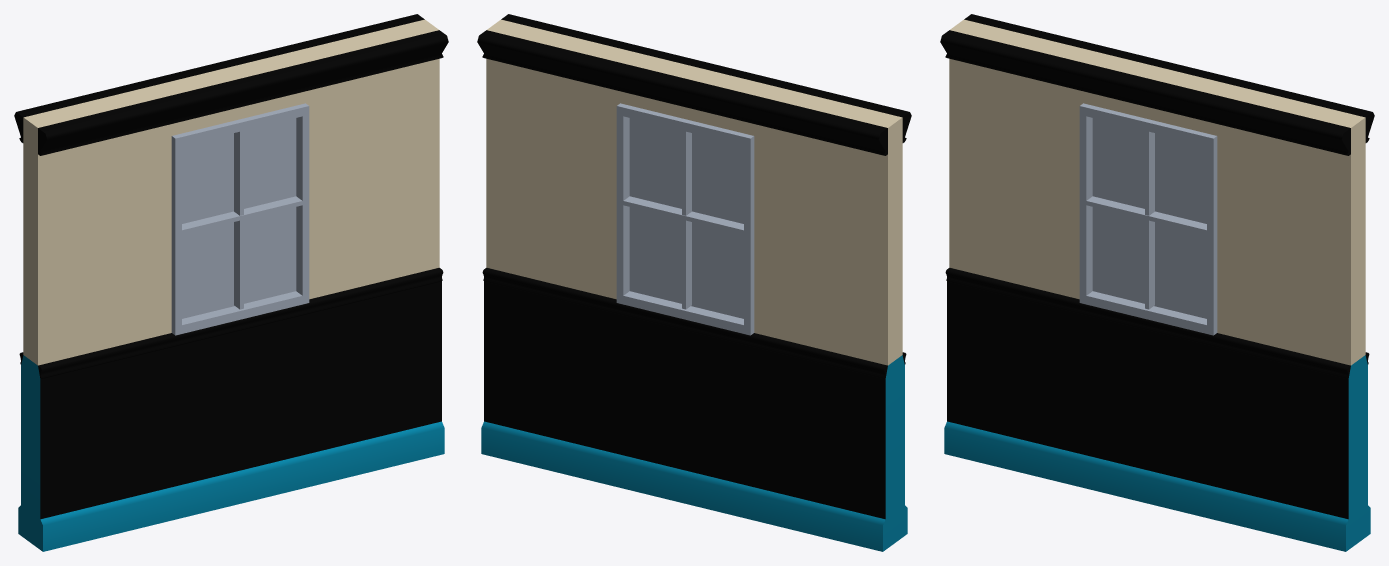
Rendered from Classic_WallWindow_01.fbx.
3 views of the same model, side by side, from view 1: azimuth 30°, elevation 25°; view 2: azimuth 150°, elevation 25°; view 3: azimuth 330°, elevation 25° (orthographic).
Visible parts, largest first — view 1: Classic_WallWindow_01_LOD00, Classic_WallWindow_01_Glass_LOD00; view 2: Classic_WallWindow_01_LOD00, Classic_WallWindow_01_Glass_LOD00; view 3: Classic_WallWindow_01_LOD00, Classic_WallWindow_01_Glass_LOD00.
Part boxes in pixels (x1=…): Classic_WallWindow_01_LOD00: x1=14, y1=14, x2=448, y2=551; Classic_WallWindow_01_Glass_LOD00: x1=182, y1=118, x2=296, y2=318; Classic_WallWindow_01_LOD00: x1=477, y1=14, x2=911, y2=551; Classic_WallWindow_01_Glass_LOD00: x1=629, y1=118, x2=743, y2=318; Classic_WallWindow_01_LOD00: x1=940, y1=14, x2=1374, y2=551; Classic_WallWindow_01_Glass_LOD00: x1=1092, y1=118, x2=1206, y2=318.
Size of what is drawn, in the model's own units: 300 by 300 by 42.83.
